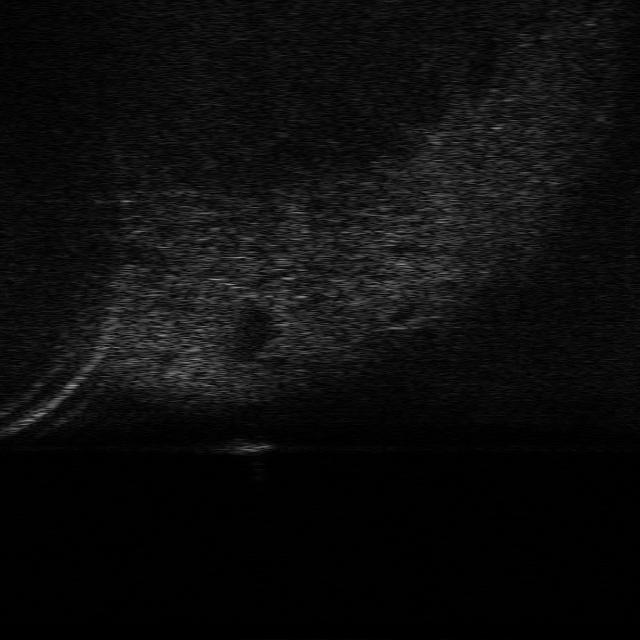cube: (222, 436, 276, 456)
